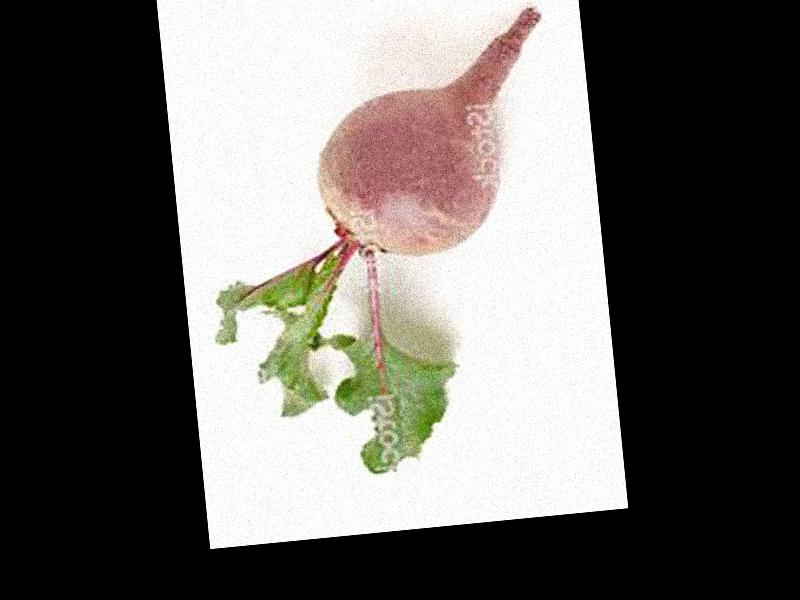Beet: (186, 7, 581, 490)
